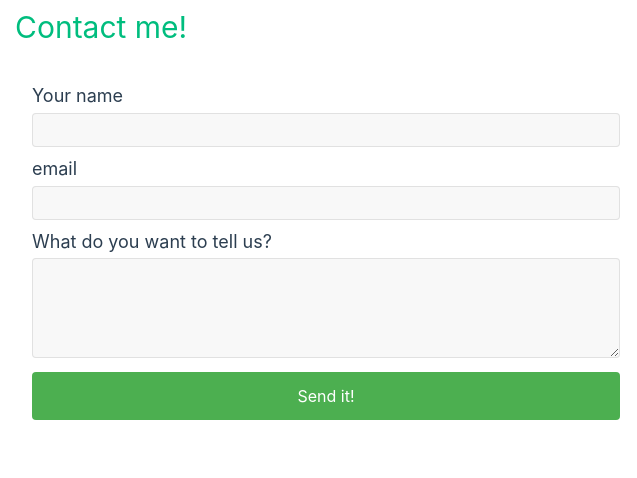
Test: ContactForm › sends message with correct format
Step 1. Type "Richard" into the field with id "name" → (326, 130), box [32,113,620,147]
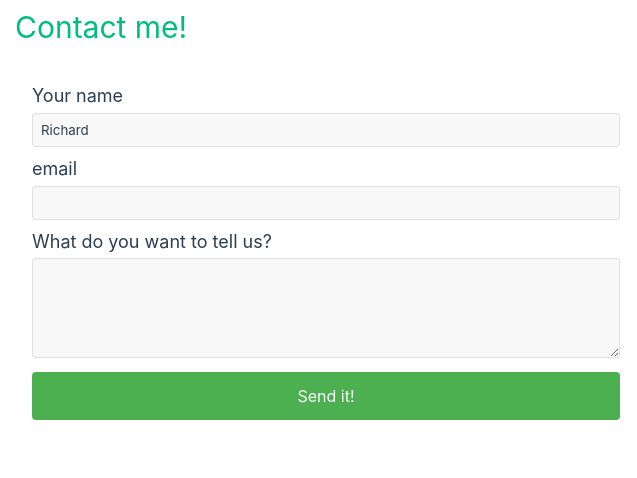
Step 2. Type "rich_richard@protonmail.com" into the field with id "email" → (326, 203), box [32,186,620,220]
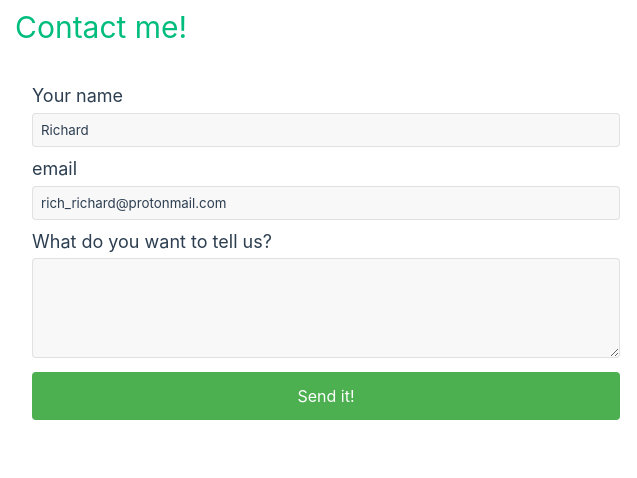
Step 3. Type "This is a test message from Richard!" into the text box with id "message" → (326, 308), box [32,258,620,358]
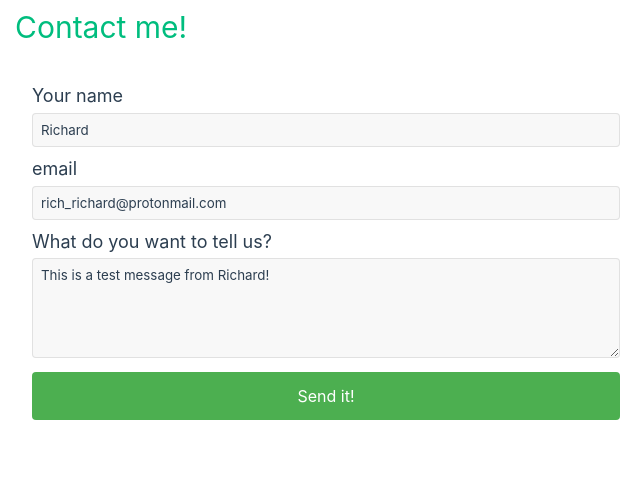
Step 4. Submit the form from the button "Send it!", box [32,372,620,420]
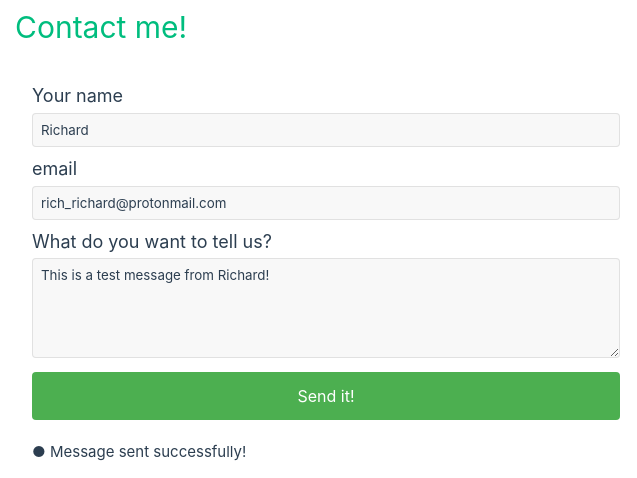
Check: the text with id "success-message" shows "Message sent successfully", box [32,442,246,461]
